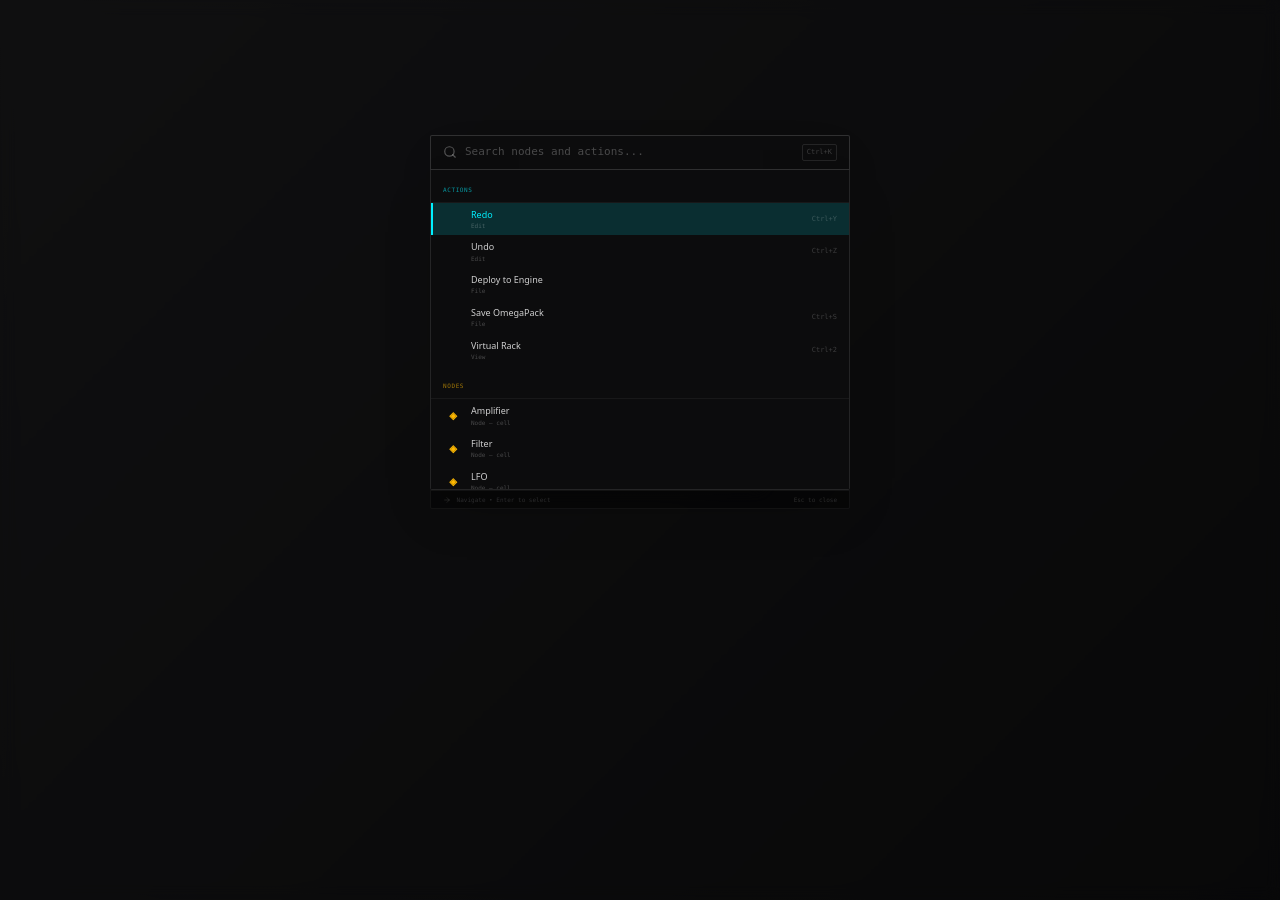
Test: CommandPalette — search / filtering › should match fuzzy (subsequence)
This screenshot has width=1280, height=900.
Type "omegapack" into the field with placeholder "Search nodes and actions..." at (629, 152), box [465,144,794,160]
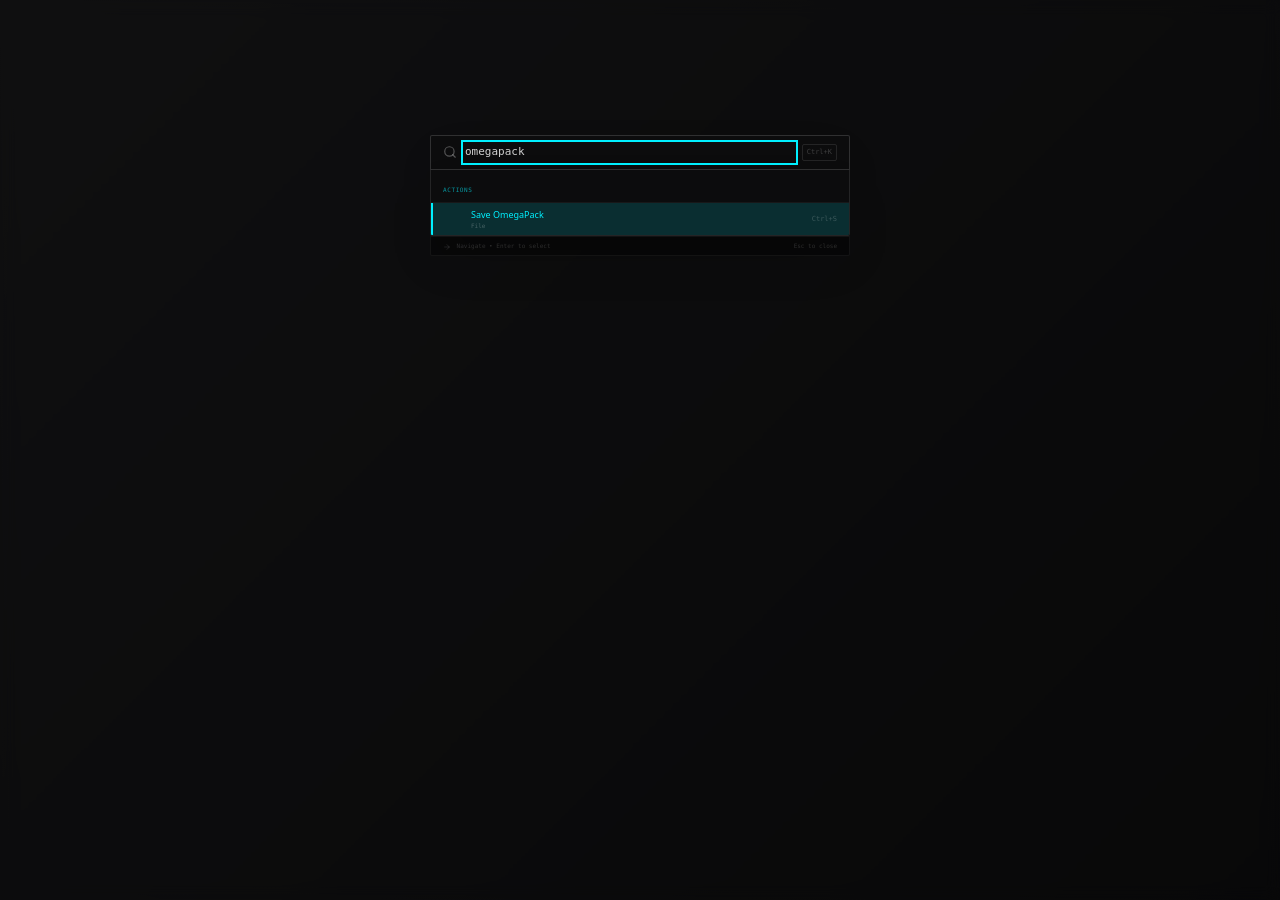
Result: the text "Save OmegaPack" is shown at [471,208,544,220]
